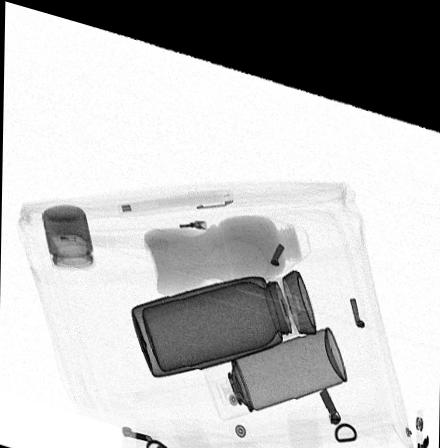Sprayer: (202, 306, 346, 407)
